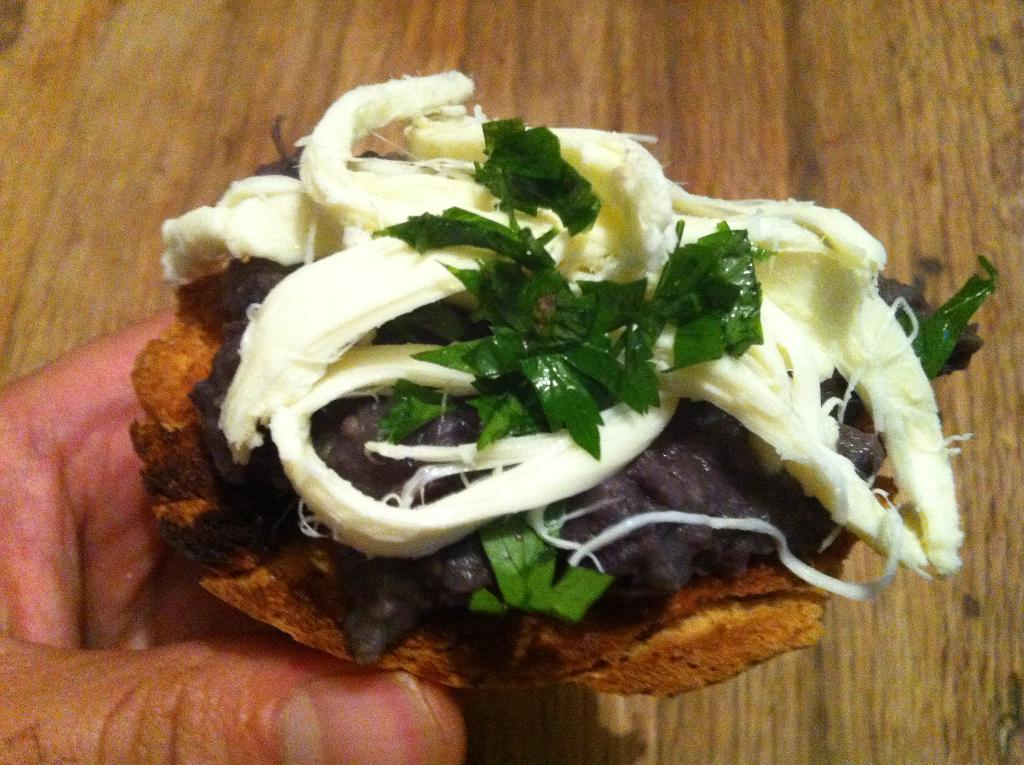sandwich: (128, 69, 993, 707)
